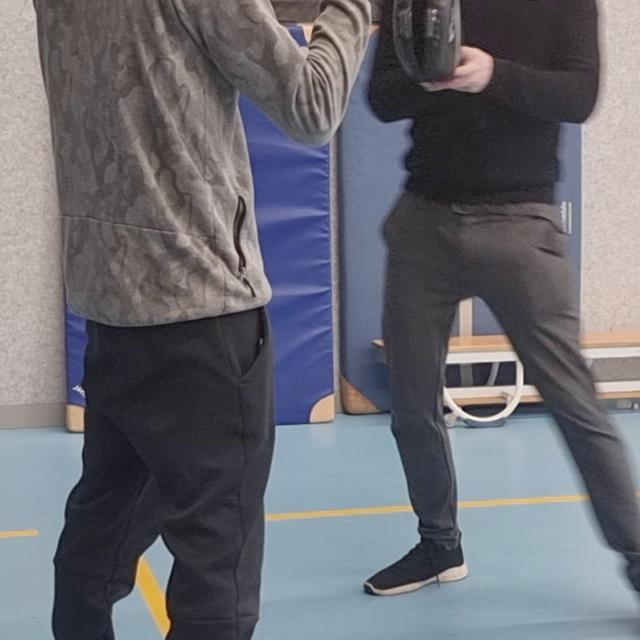paddle: (395, 0, 460, 86)
